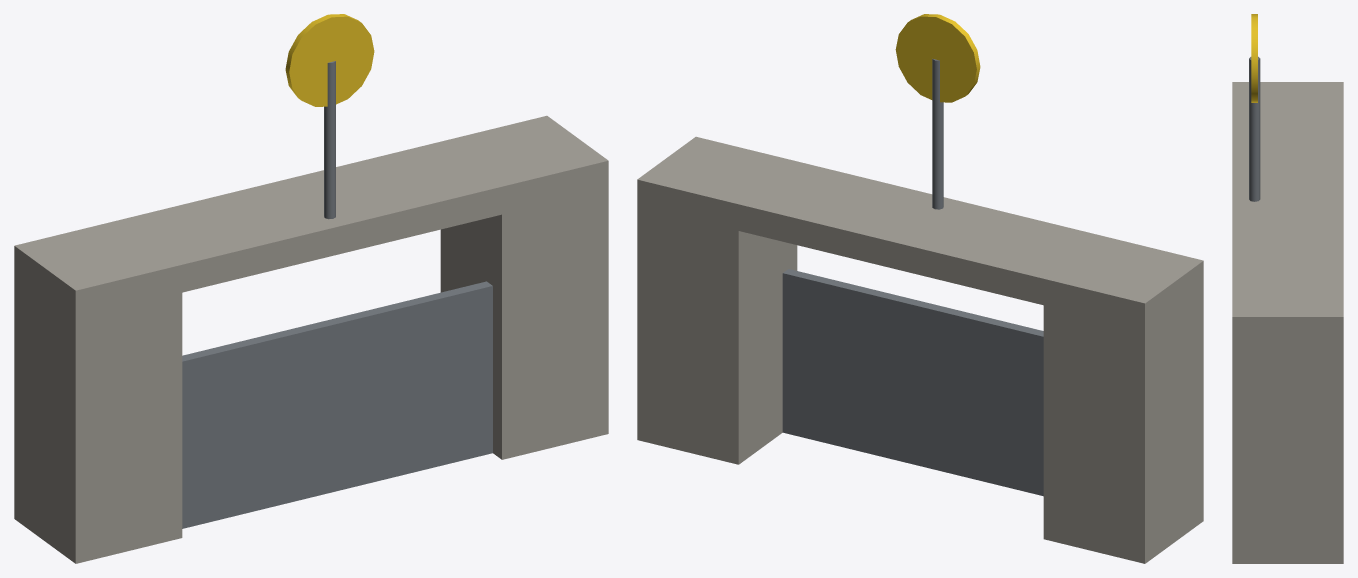
File: tf_canal_headgate_3m.glb
The picture shows the model from 3 angles, left to right: view 1: azimuth 30°, elevation 25°; view 2: azimuth 150°, elevation 25°; view 3: azimuth 270°, elevation 25°; orthographic projection. The views are drawn at different scales.
Visible parts, largest first — view 1: tf_canal_headgate_3m; view 2: tf_canal_headgate_3m; view 3: tf_canal_headgate_3m.
Part boxes in pixels (x1=…): tf_canal_headgate_3m: x1=14, y1=14, x2=608, y2=563; tf_canal_headgate_3m: x1=637, y1=14, x2=1203, y2=563; tf_canal_headgate_3m: x1=1232, y1=14, x2=1343, y2=563.
Size of what is drawn, in the model's own units: 5 by 4.25 by 1.
